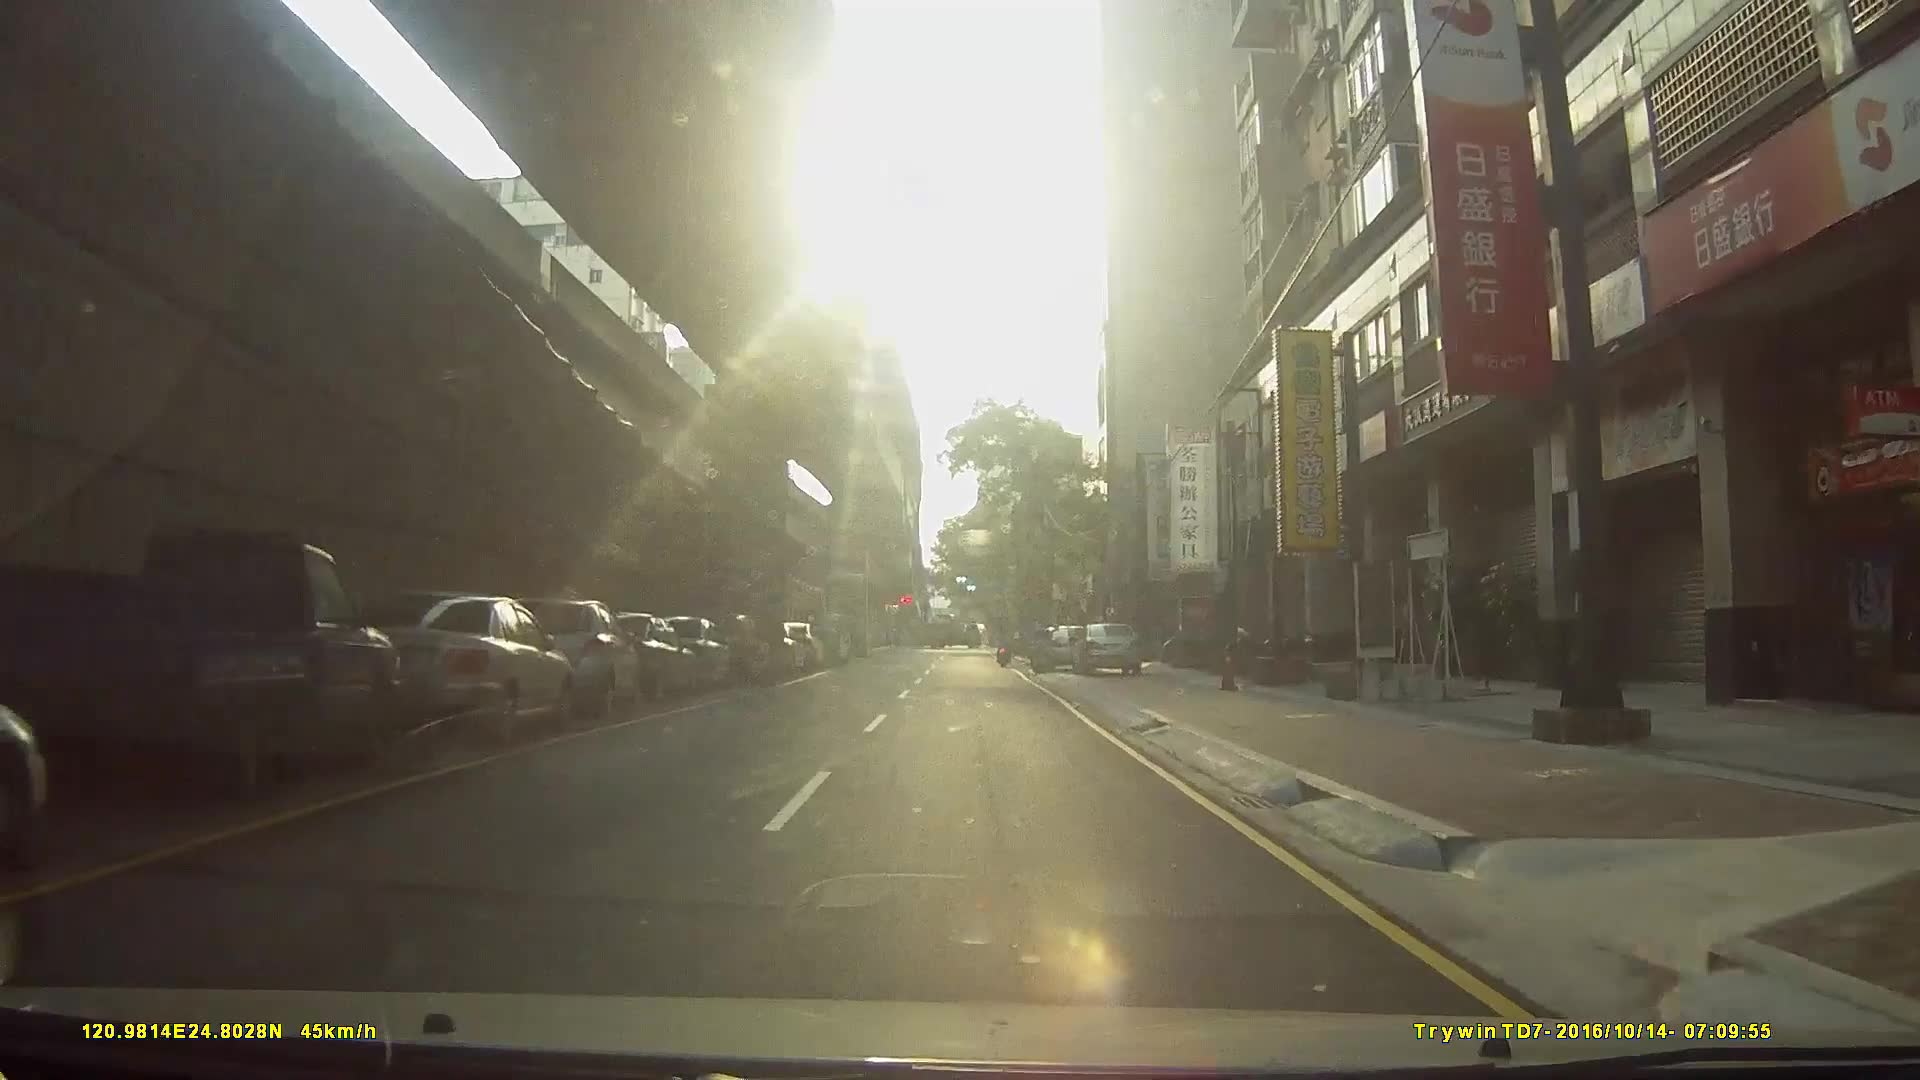vehicle: (5, 522, 407, 815), (326, 585, 568, 746), (487, 592, 636, 720), (1, 700, 65, 881), (576, 608, 694, 704), (647, 612, 729, 688), (692, 611, 770, 684), (1069, 617, 1147, 673), (1029, 622, 1091, 673), (916, 611, 992, 647)
